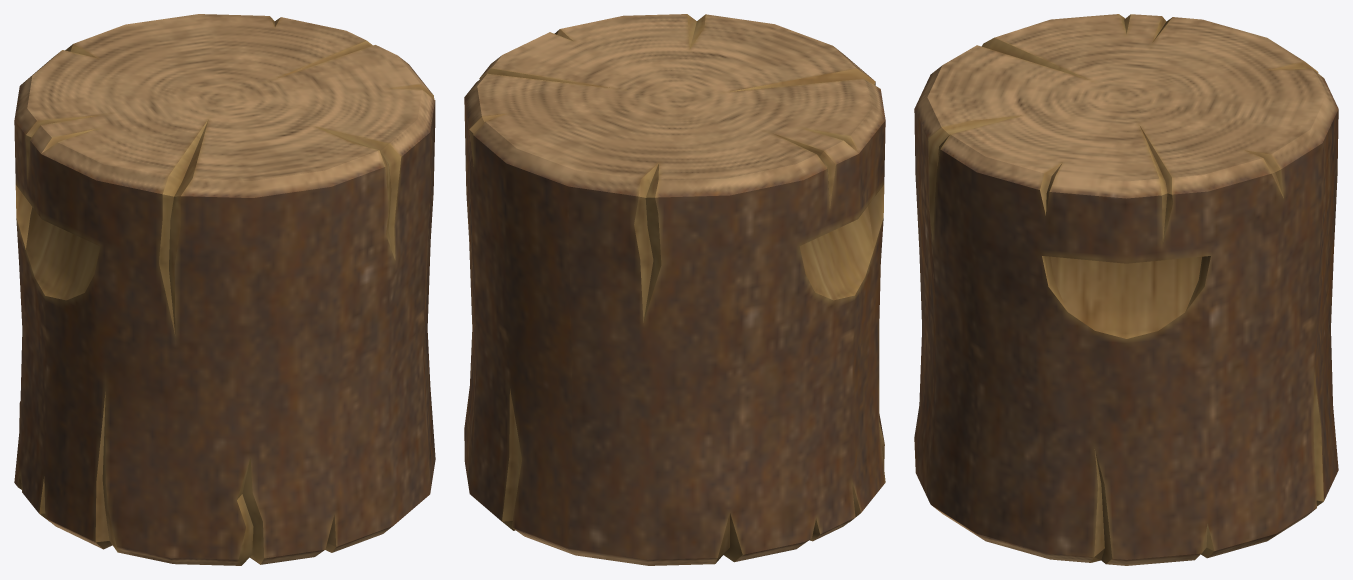
File: sb_obj_outdoor036_LogChair01.fbx
The picture shows the model from 3 angles, left to right: view 1: azimuth 30°, elevation 25°; view 2: azimuth 150°, elevation 25°; view 3: azimuth 270°, elevation 25°; orthographic projection.
Visible parts, largest first — view 1: sb_obj_outdoor036_LogChair01; view 2: sb_obj_outdoor036_LogChair01; view 3: sb_obj_outdoor036_LogChair01.
Part boxes in pixels (x1,y1,x2,y2): sb_obj_outdoor036_LogChair01: (14, 14, 435, 565); sb_obj_outdoor036_LogChair01: (464, 14, 885, 565); sb_obj_outdoor036_LogChair01: (914, 14, 1338, 565).
Size of the model in its own units: 0.3 by 0.3003 by 0.3001.
